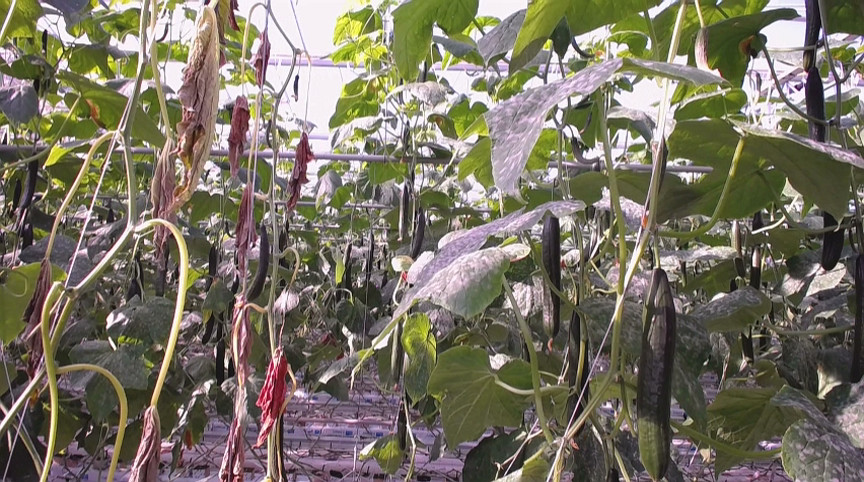cucumber: (638, 268, 675, 478), (542, 214, 561, 337), (245, 228, 270, 302), (806, 69, 829, 144), (802, 1, 821, 73), (822, 210, 845, 269), (399, 185, 410, 240)
